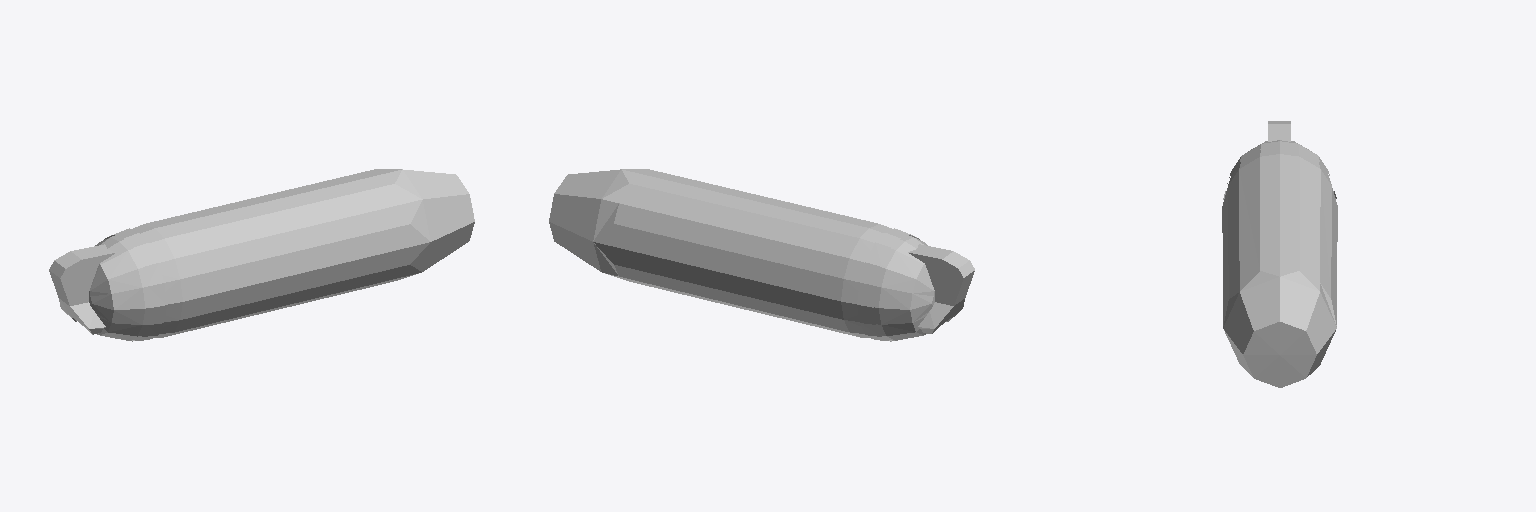
Rendered from Javelin_Mag.obj.
3 views of the same model, side by side, from view 1: azimuth 30°, elevation 25°; view 2: azimuth 150°, elevation 25°; view 3: azimuth 270°, elevation 25° (orthographic).
Parts seen in each view (by area): view 1: default:default.006_default:default.022; view 2: default:default.006_default:default.022; view 3: default:default.006_default:default.022.
Boxes of the visible parts, x1,y1,x2,y2 form: default:default.006_default:default.022: [49, 169, 474, 341]; default:default.006_default:default.022: [549, 169, 974, 341]; default:default.006_default:default.022: [1222, 121, 1337, 387].
Bounding box in the file's own units: 0.1723 × 0.0429 × 0.0427.